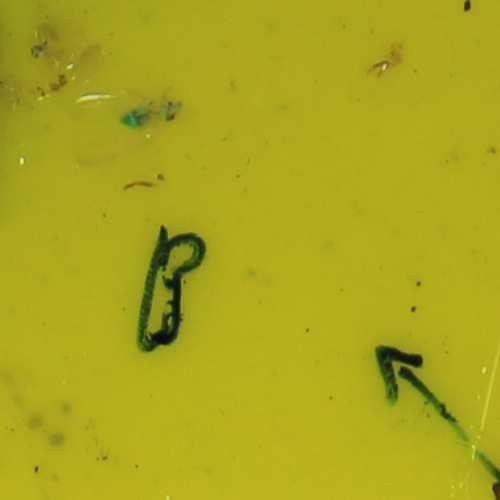psylla: (124, 101, 188, 128)
